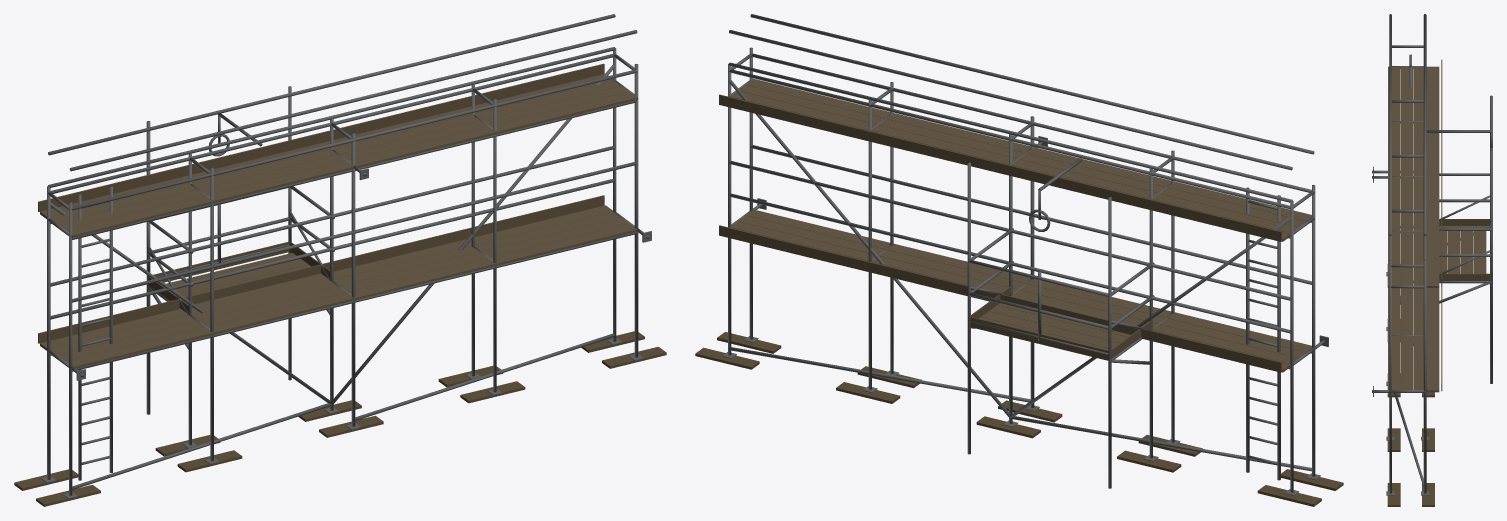
File: scaffold.glb
3 renders of one model, left to right at view 1: azimuth 30°, elevation 25°; view 2: azimuth 150°, elevation 25°; view 3: azimuth 270°, elevation 25°, orthographic. The views are drawn at different scales.
Visible parts, largest first — view 1: Brace_0.00; view 2: Brace_0.00; view 3: Brace_0.00.
Part boxes in pixels (bbox=[...]): Brace_0.00: bbox=[14, 14, 666, 506]; Brace_0.00: bbox=[695, 14, 1343, 506]; Brace_0.00: bbox=[1372, 14, 1492, 506].
Size of the model in its own units: 9.9 by 5.02 by 2.09.
